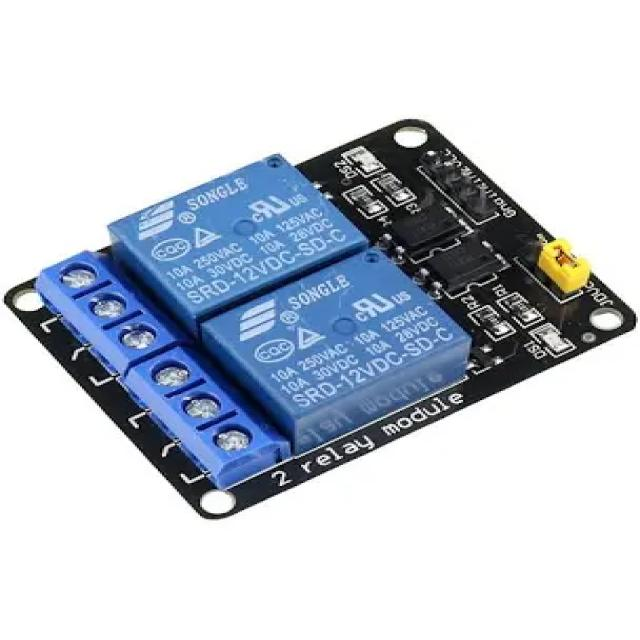Relay: (6, 121, 636, 522)
